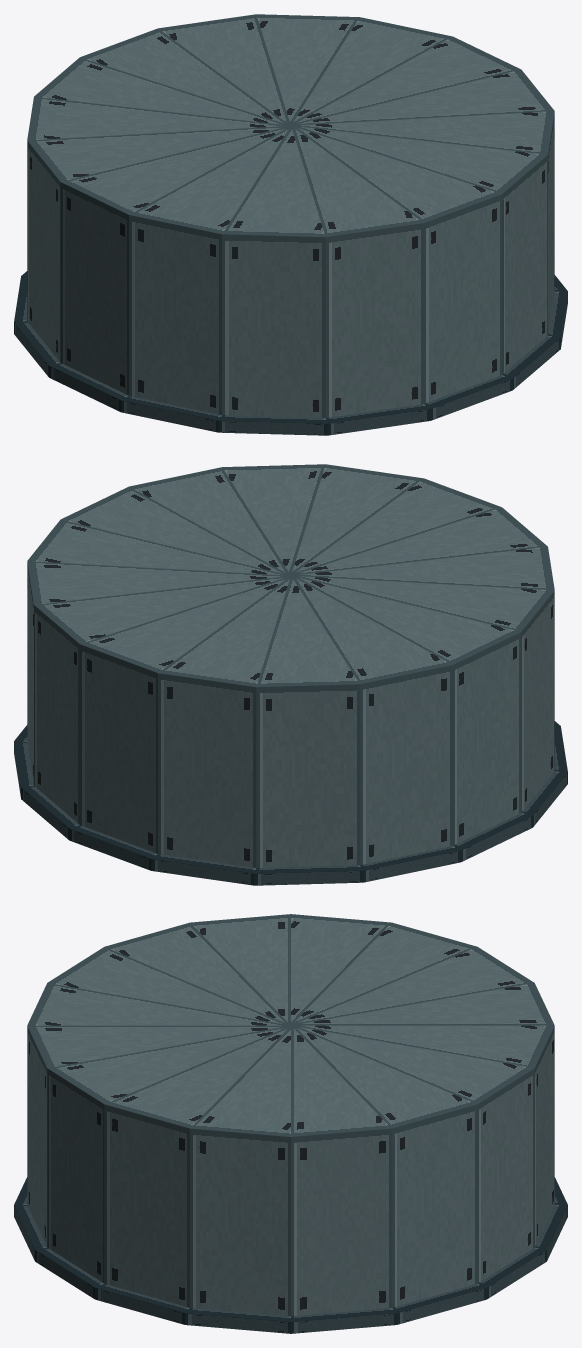
File: detail_silo.obj
3 views of the same model, one above another, from view 1: azimuth 30°, elevation 25°; view 2: azimuth 150°, elevation 25°; view 3: azimuth 270°, elevation 25° (orthographic).
Bounding box in the file's own units: 2.62 × 1 × 2.62.
